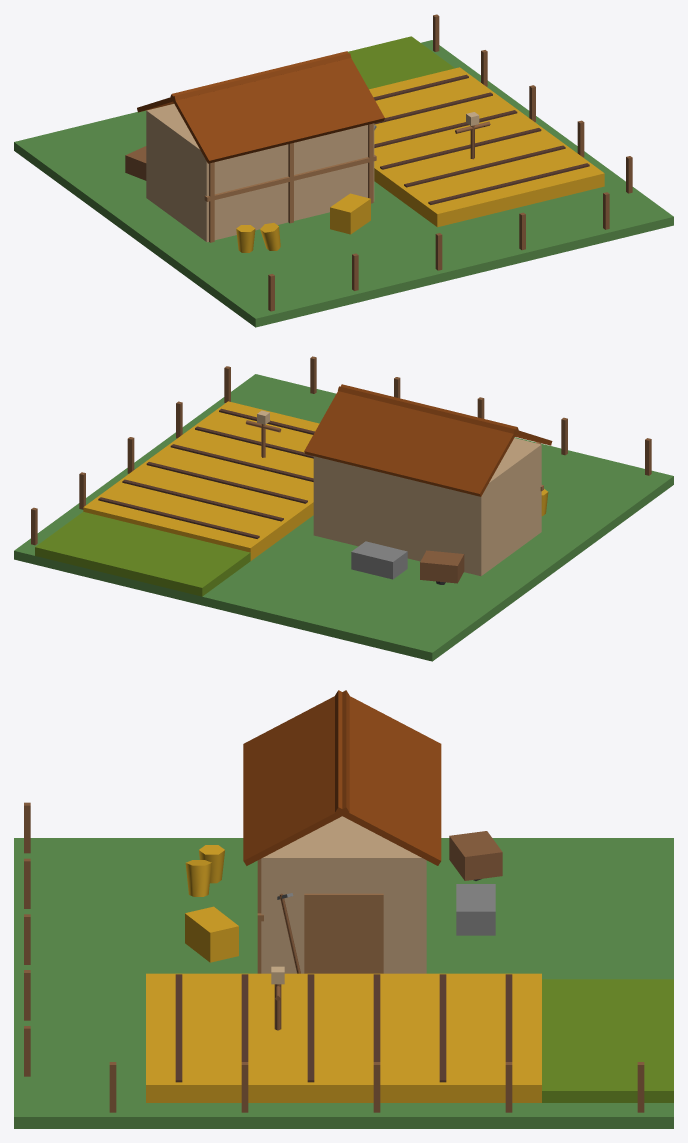
The model's file is farm.glb.
3 views of the same model, one above another, from view 1: azimuth 30°, elevation 25°; view 2: azimuth 150°, elevation 25°; view 3: azimuth 270°, elevation 25° (orthographic). The views are drawn at different scales.
Visible parts, largest first — view 1: Ground, FieldRipe, Farmhouse, RoofFront, FurrowRipe (×5), FieldGrowing, HayBale1, RoofBack, BeamHorizontal, CartBody; view 2: Ground, FieldRipe, Farmhouse, RoofBack, FieldGrowing, FurrowRipe (×5), Trough, CartBody, RoofFront; view 3: Ground, FieldRipe, FieldGrowing, Farmhouse, RoofBack, RoofFront, BarnDoor, FurrowRipe (×6), HayBale1, CartBody, Trough, GrainSheaf2 (+1 smaller).
Part boxes in pixels (x1,y1,x2,y2): Ground: (14, 40, 673, 327); FieldRipe: (369, 67, 604, 227); Farmhouse: (146, 104, 374, 242); RoofFront: (170, 51, 384, 163); FurrowRipe (×5): (374, 92, 589, 204); FieldGrowing: (348, 36, 454, 89); HayBale1: (330, 193, 370, 234); RoofBack: (137, 53, 351, 112); BeamHorizontal: (204, 155, 376, 201); CartBody: (125, 146, 146, 180); Ground: (14, 374, 673, 661); FieldRipe: (83, 401, 319, 560); Farmhouse: (313, 438, 541, 576); RoofBack: (304, 384, 518, 496); FieldGrowing: (35, 511, 250, 596); FurrowRipe (×5): (98, 426, 313, 538); Trough: (351, 541, 407, 579); CartBody: (420, 550, 464, 583); RoofFront: (338, 386, 552, 445); Ground: (14, 838, 673, 1128); FieldRipe: (146, 973, 541, 1102); FieldGrowing: (542, 979, 673, 1102); Farmhouse: (261, 816, 426, 973); RoofBack: (335, 690, 441, 865); RoofFront: (243, 690, 349, 865); BarnDoor: (304, 893, 383, 973); FurrowRipe (×6): (175, 974, 512, 1082); HayBale1: (185, 906, 238, 962); CartBody: (449, 831, 502, 880); Trough: (456, 884, 495, 935); GrainSheaf2: (185, 860, 211, 896).
Bounding box in the file's own units: 10 × 3.09 × 10.
